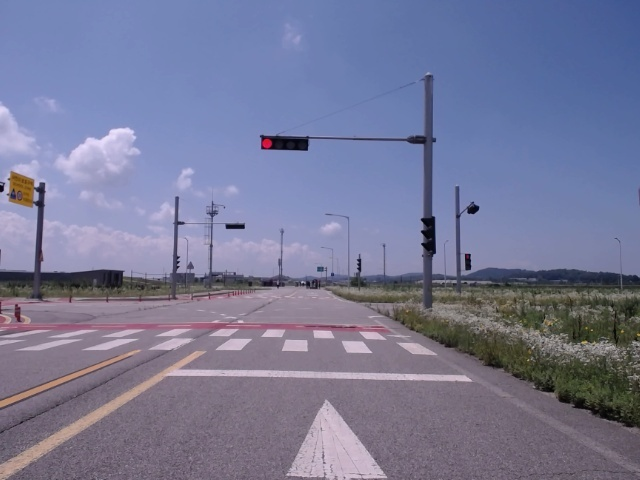red_4: (261, 137, 308, 151)
